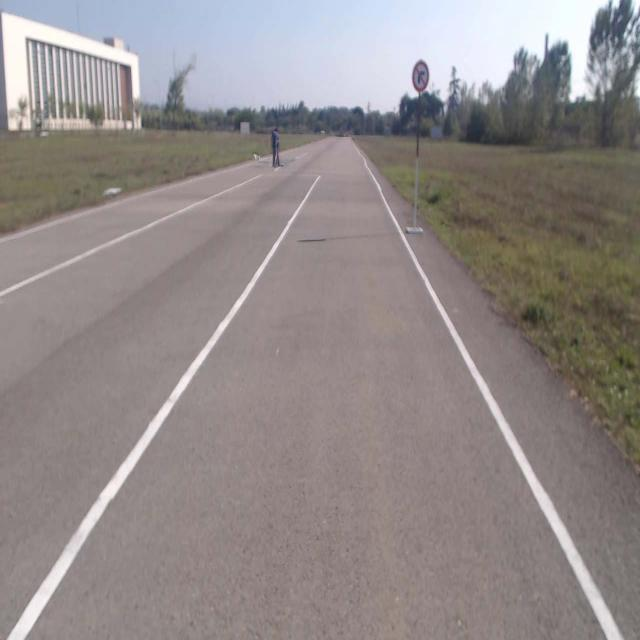sagadonulmez: (412, 61, 428, 90)
